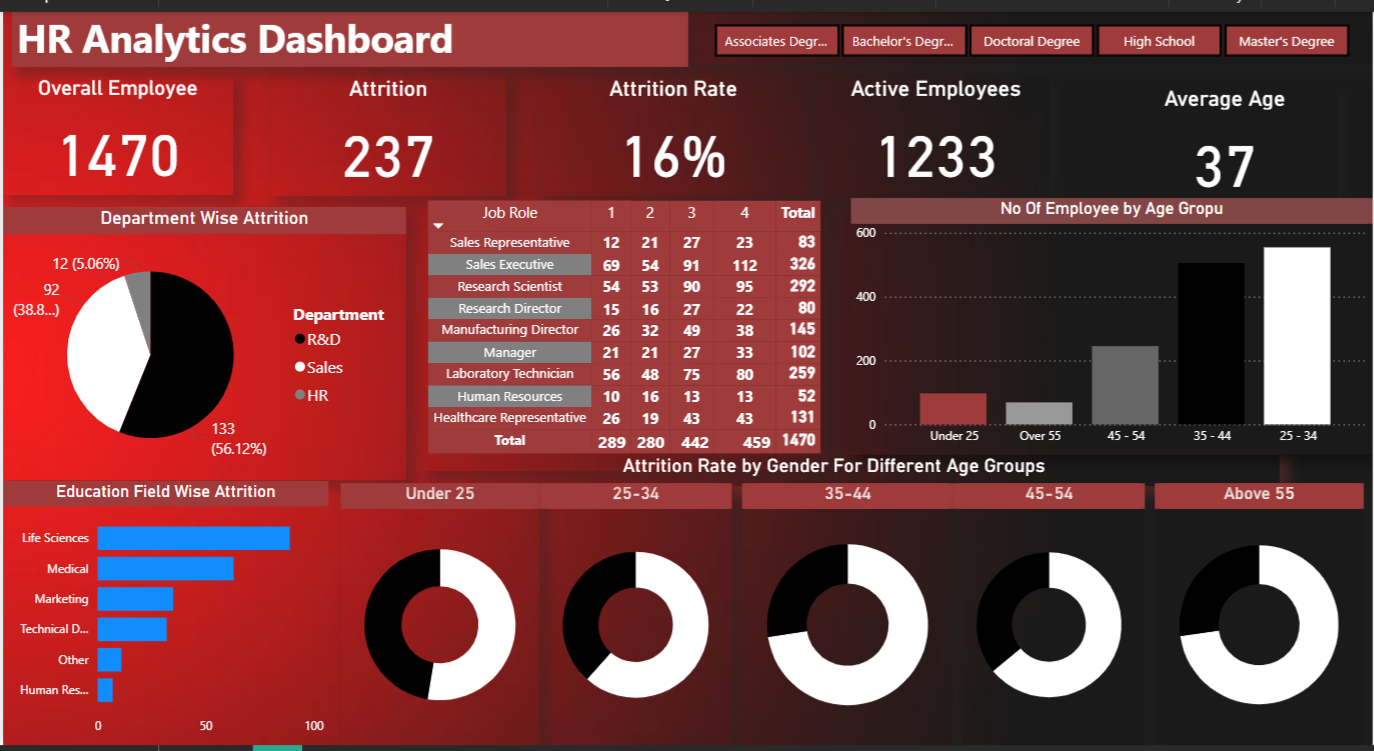

This screenshot's page, from the dashboard's own definition file:
{"tool":"powerbi","page":{"name":"Page 1","canvas":[1374,736],"ordinal":0},"visuals":[{"type":"card","title":"Overall Employee","fields":{"Values":["Sum(HR data.Employee Count)"]},"box":[0,63.8,230.2,120.1],"z":0},{"type":"card","title":" Attrition","fields":{"Values":["Sum(HR data.Attrition value)"]},"box":[268.4,64,235.8,120.4],"z":1},{"type":"card","title":" Attrition Rate","fields":{"Values":["HR data.Attrition Rate"]},"box":[538.1,64,268.4,120.4],"z":2},{"type":"card","title":" Active Employees ","fields":{"Values":["HR data.Active Employee"]},"box":[821.5,64,228.3,120.4],"z":3},{"type":"card","title":" Average Age  ","fields":{"Values":["Avg(HR data.Age)"]},"box":[1112.5,74,225.8,120.4],"z":4},{"type":"pieChart","title":" Department Wise Attrition","fields":{"Category":["HR data.Department"],"Y":["Sum(HR data.Attrition value)"]},"box":[0,195.7,403.9,274.7],"z":5},{"type":"columnChart","title":" No Of Employee by Age Gropu ","fields":{"Category":["HR data.CF_age band"],"Y":["Sum(HR data.Employee Count)"]},"box":[850.4,186.9,523,257.1],"z":6},{"type":"pivotTable","fields":{"Rows":["HR data.Job Role"],"Columns":["HR data.Job Satisfaction"],"Values":["Sum(HR data.Employee Count)"]},"box":[421.4,184.4,405.1,275.9],"z":7},{"type":"barChart","title":"Education Field Wise Attrition","fields":{"Category":["HR data.Education Field"],"Y":["Sum(HR data.Attrition value)"]},"box":[0,470.3,326.5,263.9],"z":8},{"type":"donutChart","title":" Under 25","fields":{"Category":["HR data.Gender"],"Y":["Sum(HR data.Attrition value)"],"Series":["HR data.CF_age band"]},"box":[338.7,472.9,199.4,263.4],"z":9},{"type":"donutChart","title":" 25-34","fields":{"Category":["HR data.Gender"],"Y":["Sum(HR data.Attrition value)"],"Series":["HR data.CF_age band"]},"box":[538.1,472.9,193.2,263.4],"z":10},{"type":"donutChart","title":" 35-44","fields":{"Category":["HR data.Gender"],"Y":["Sum(HR data.Attrition value)"],"Series":["HR data.CF_age band"]},"box":[741.3,472.9,212,263.4],"z":11},{"type":"donutChart","title":" 45-54","fields":{"Category":["HR data.Gender"],"Y":["Sum(HR data.Attrition value)"],"Series":["HR data.CF_age band"]},"box":[953.2,472.9,191.9,263.4],"z":12},{"type":"donutChart","title":" Above 55","fields":{"Category":["HR data.Gender"],"Y":["Sum(HR data.Attrition value)"],"Series":["HR data.CF_age band"]},"box":[1155.2,472.9,209.5,263.4],"z":13},{"type":"textbox","title":"Attrition Rate by Gender For Different Age Groups","box":[386.3,444,894.3,31.4],"z":14},{"type":"textbox","title":"HR Analytics Dashboard","box":[8.8,0,678.6,55.2],"z":15},{"type":"slicer","fields":{"Values":["HR data.Education"]},"box":[687.3,5,687,47],"z":16}]}

Visuals, with their boxes in screenshot pixels (x1, y1, x2, y2), scaled from the page's 1374x736 canvas onto the 1374x751 screenshot:
"Overall Employee" card: <region>0, 65, 230, 188</region>
" Attrition" card: <region>268, 65, 504, 188</region>
" Attrition Rate" card: <region>538, 65, 806, 188</region>
" Active Employees " card: <region>822, 65, 1050, 188</region>
" Average Age  " card: <region>1112, 76, 1338, 198</region>
" Department Wise Attrition" pieChart: <region>0, 200, 404, 480</region>
" No Of Employee by Age Gropu " columnChart: <region>850, 191, 1373, 453</region>
pivotTable - HR data.Job Role x HR data.Job Satisfaction: <region>421, 188, 826, 470</region>
"Education Field Wise Attrition" barChart: <region>0, 480, 326, 749</region>
" Under 25" donutChart: <region>339, 483, 538, 750</region>
" 25-34" donutChart: <region>538, 483, 731, 750</region>
" 35-44" donutChart: <region>741, 483, 953, 750</region>
" 45-54" donutChart: <region>953, 483, 1145, 750</region>
" Above 55" donutChart: <region>1155, 483, 1365, 750</region>
"Attrition Rate by Gender For Different Age Groups" textbox: <region>386, 453, 1281, 485</region>
"HR Analytics Dashboard" textbox: <region>9, 0, 687, 56</region>
slicer - HR data.Education: <region>687, 5, 1373, 53</region>
